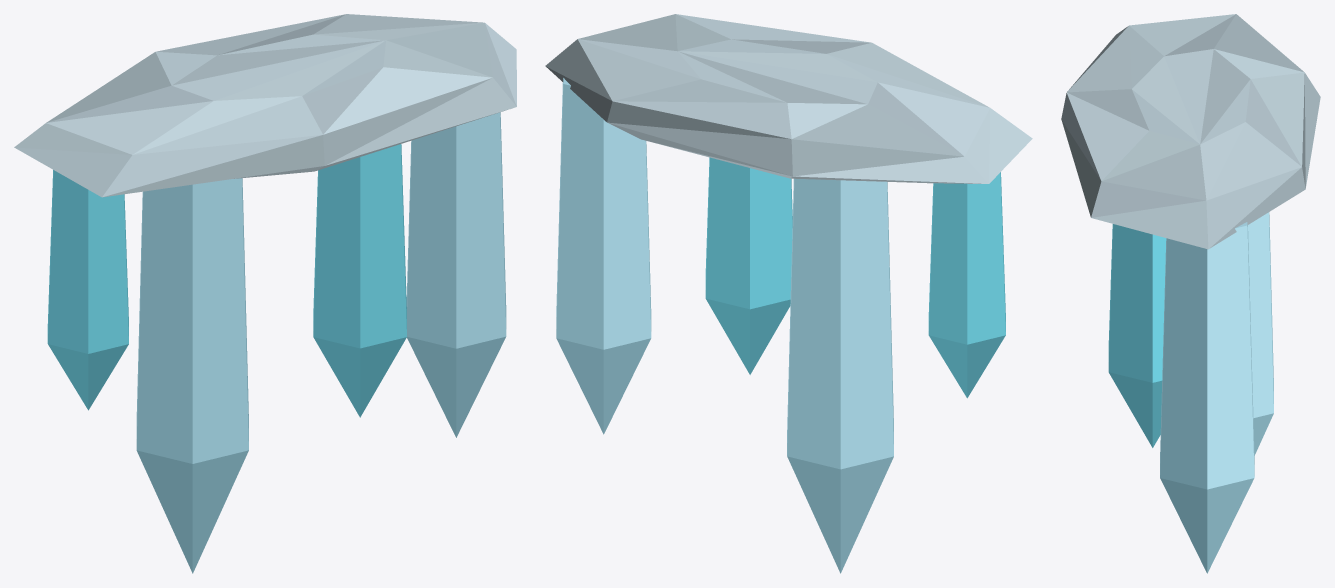
Rendered from icicle_cluster.glb.
The picture shows the model from 3 angles, left to right: view 1: azimuth 30°, elevation 25°; view 2: azimuth 150°, elevation 25°; view 3: azimuth 270°, elevation 25°; orthographic projection. The views are drawn at different scales.
Parts seen in each view (by area): view 1: crystals, geometry; view 2: crystals, geometry; view 3: geometry, crystals.
Part boxes in pixels (<box>): crystals: <box>47,112,506,573</box>; geometry: <box>14,14,516,197</box>; crystals: <box>556,78,1005,573</box>; geometry: <box>545,14,1032,183</box>; geometry: <box>1061,14,1320,249</box>; crystals: <box>1108,212,1273,573</box>.
Size of the model in its own units: 0.7755 by 0.76 by 0.3806.
